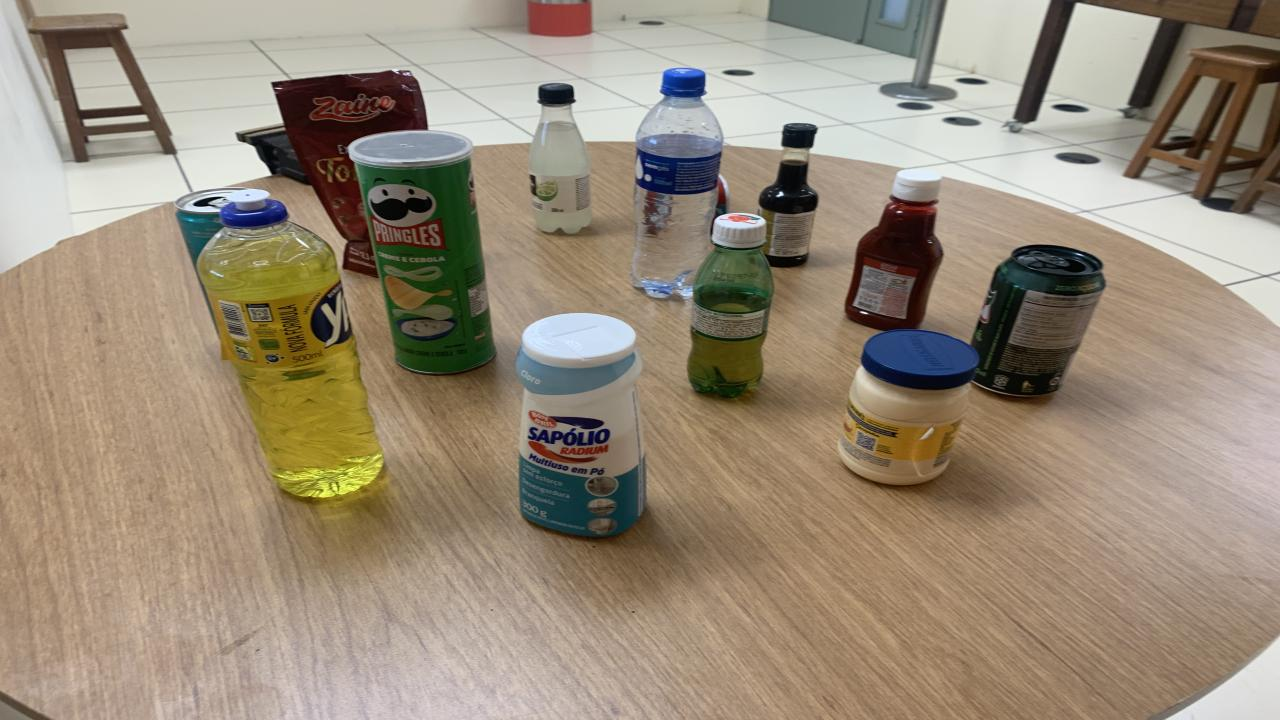Cleaner-Cleanup_Items: (515, 313, 645, 536)
Detergent-Cleanup_Items: (198, 189, 382, 497)
English_Sauce-Pantry_Items: (758, 124, 818, 266)
Guarana-Drinks: (688, 212, 772, 398)
Guarana_Can-Drinks: (970, 244, 1105, 396)
Ketchup-Pantry_Items: (845, 169, 942, 330)
Mayonnaise-Pantry_Items: (840, 330, 980, 486)
Pringles-Snacks: (350, 129, 495, 373)
Soda-Drinks: (528, 82, 592, 234)
Tea-Drinks: (175, 188, 240, 264)
Tomato_Sauce-Pantry_Items: (272, 71, 428, 276)
Water_Bottle-Drinks: (630, 69, 722, 298)
